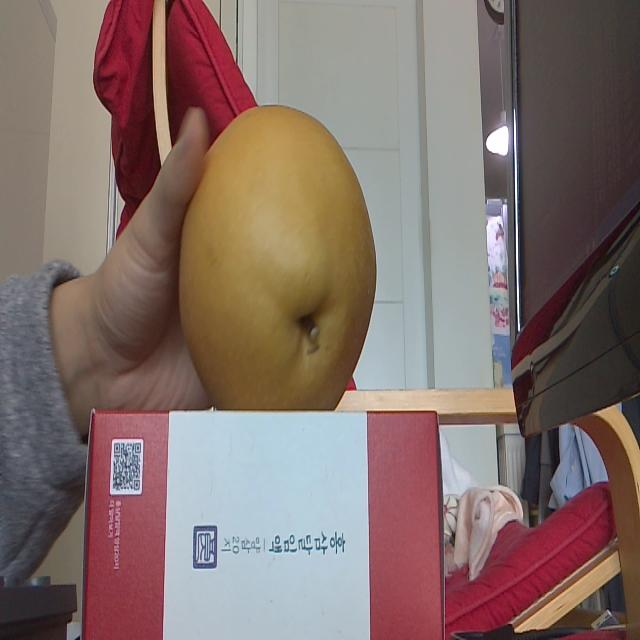pear: (180, 106, 376, 410)
